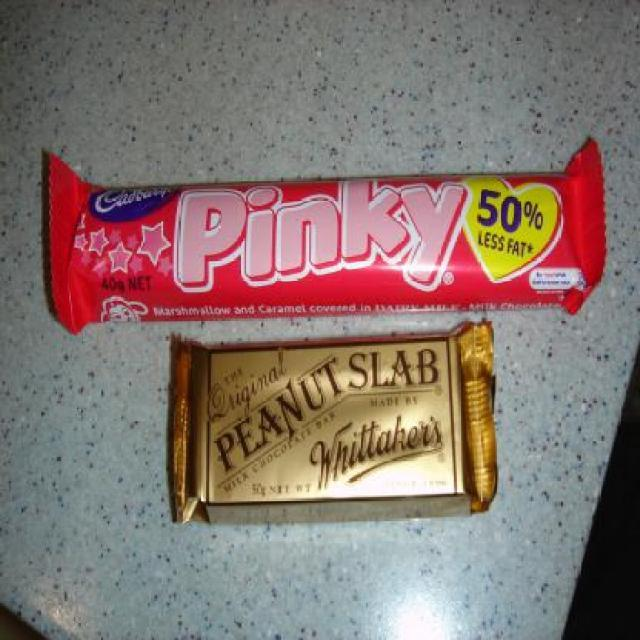Chocolate bar: (42, 138, 606, 324), (161, 325, 499, 529)
